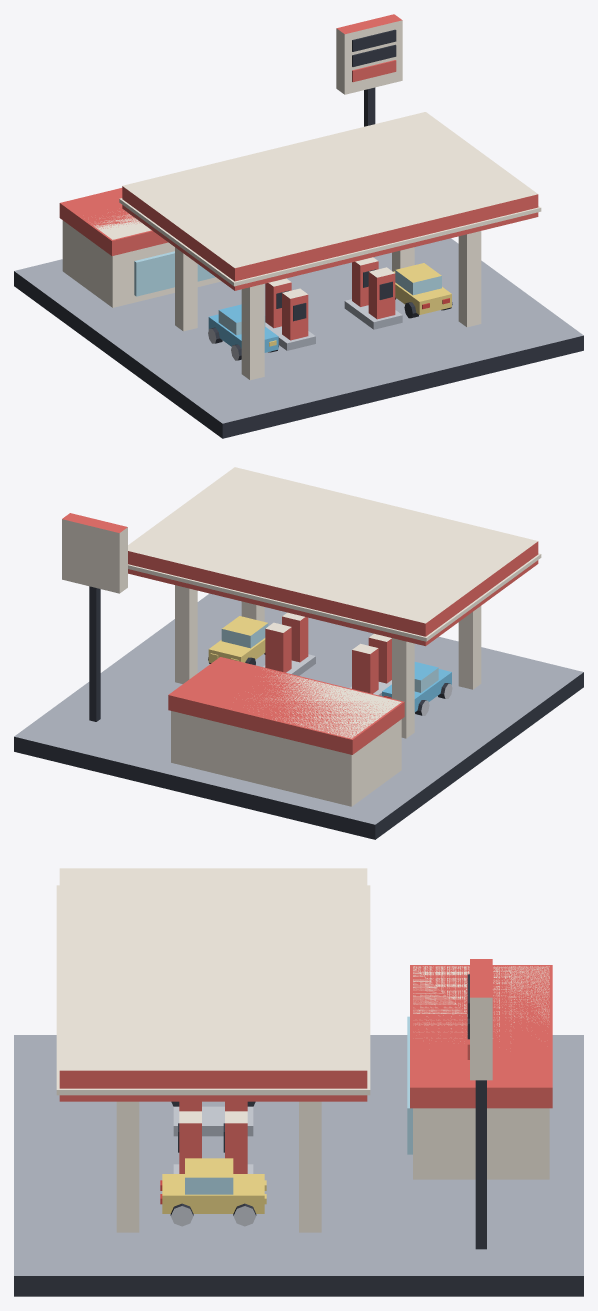
File: shop_gas_station.glb
3 renders of one model, top to bottom at view 1: azimuth 30°, elevation 25°; view 2: azimuth 150°, elevation 25°; view 3: azimuth 270°, elevation 25°, orthographic. The views are drawn at different scales.
Visible parts, largest first — view 1: shop_gas_station; view 2: shop_gas_station; view 3: shop_gas_station.
Part boxes in pixels (x1=…): shop_gas_station: x1=14, y1=14, x2=583, y2=438; shop_gas_station: x1=14, y1=467, x2=583, y2=839; shop_gas_station: x1=14, y1=868, x2=583, y2=1296.
Bounding box in the file's own units: 1 × 0.56 × 1.
